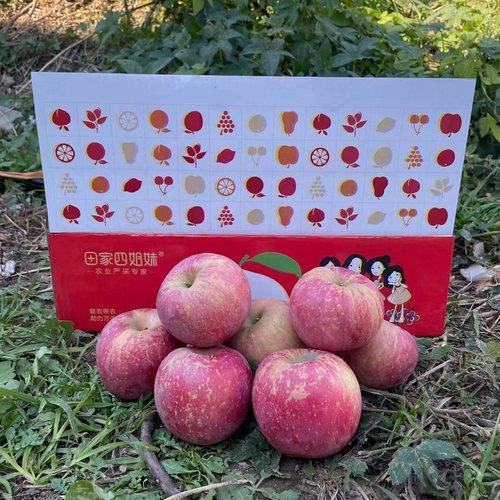apple: (250, 345, 362, 458), (154, 345, 252, 441), (155, 253, 250, 346), (296, 264, 384, 350), (95, 306, 173, 399), (230, 293, 299, 369), (347, 318, 419, 387)
